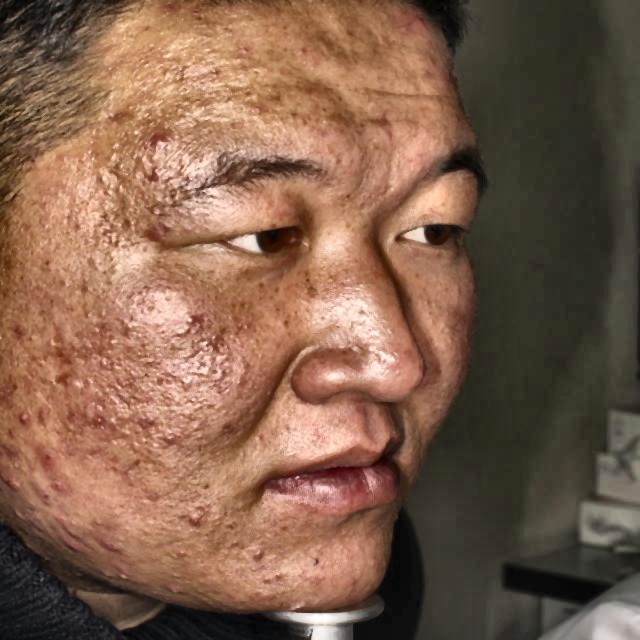pustule: (112, 556, 141, 588), (36, 439, 70, 466), (158, 576, 194, 601), (161, 542, 196, 567), (243, 542, 276, 567), (13, 405, 43, 431), (43, 469, 76, 491), (144, 123, 166, 154), (6, 315, 34, 336), (180, 499, 202, 518), (4, 467, 22, 489)
